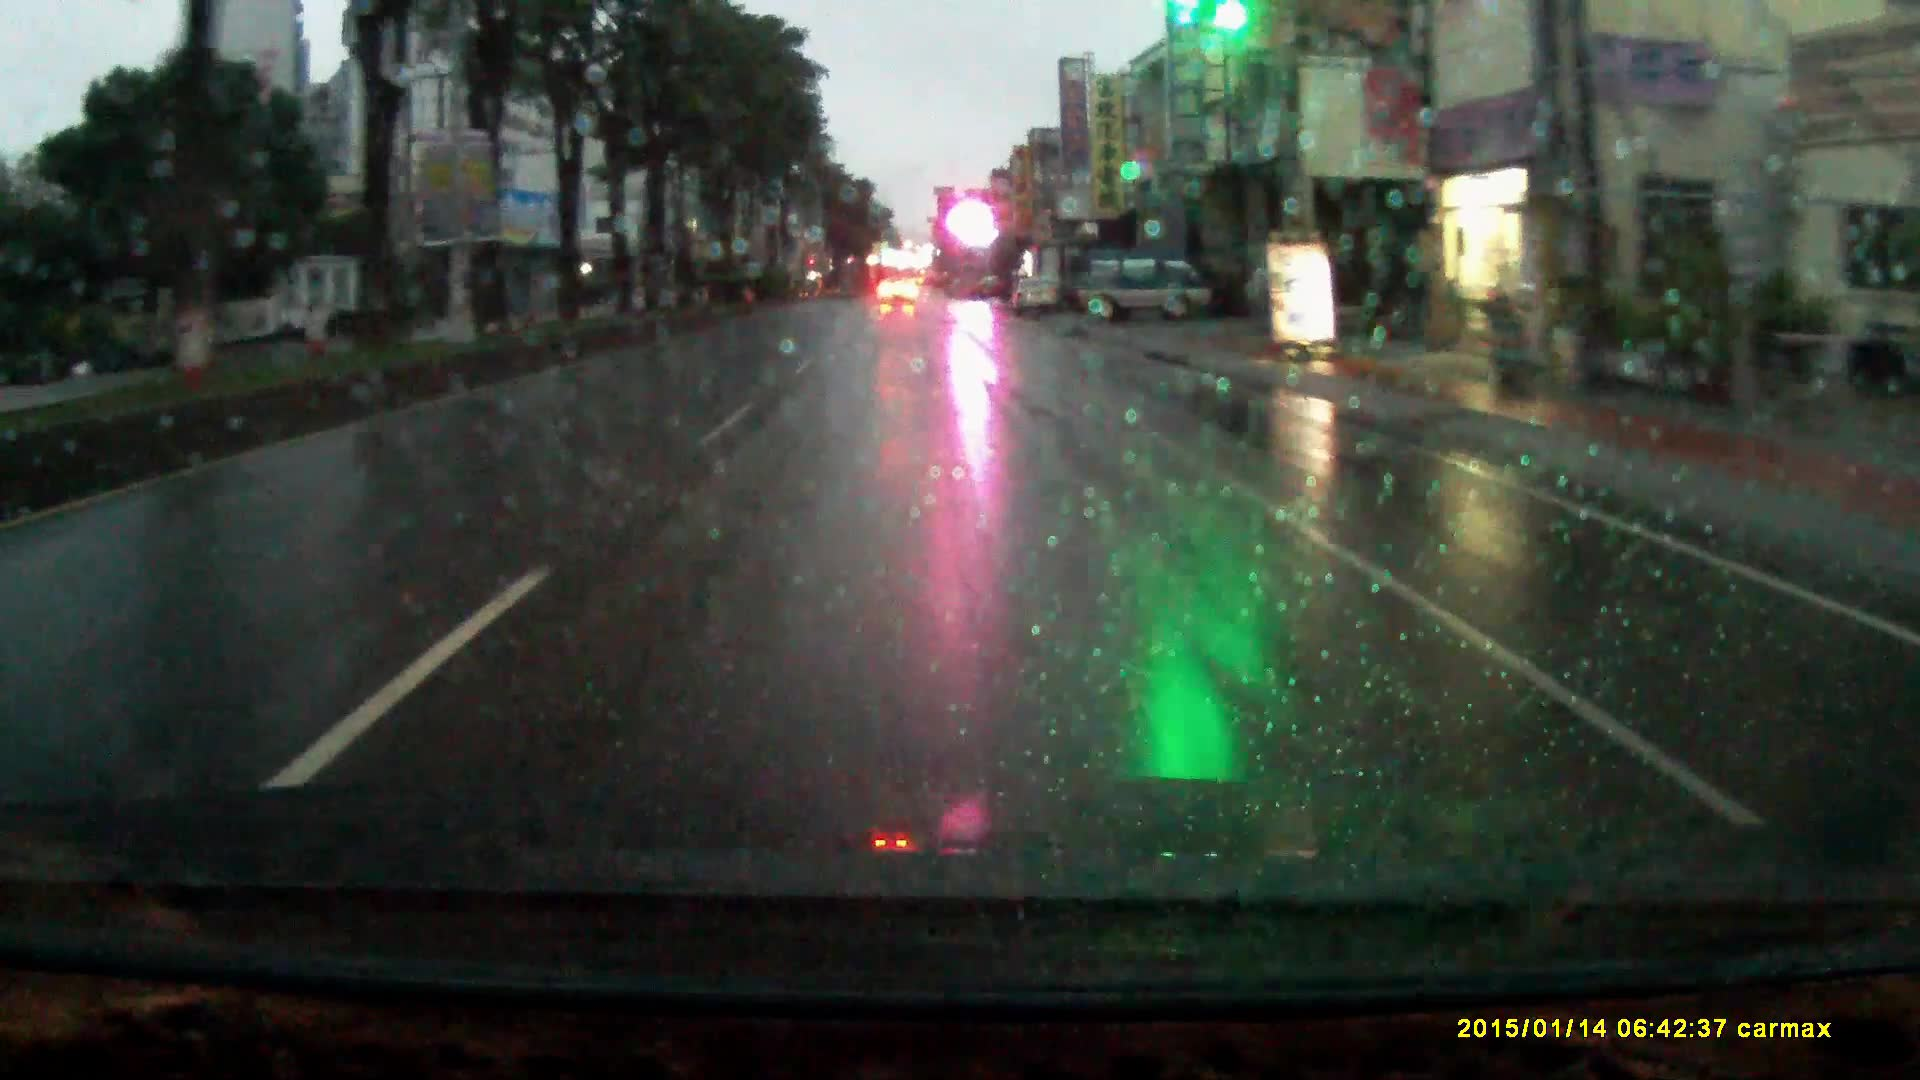vehicle: (1069, 249, 1218, 324), (1021, 245, 1088, 324), (1009, 276, 1063, 318), (878, 280, 919, 313)
